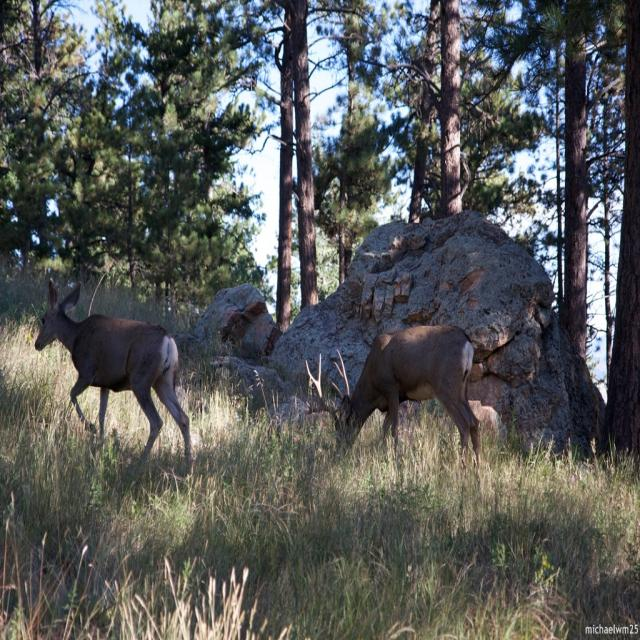Deer: (34, 277, 191, 464), (304, 323, 481, 466)
